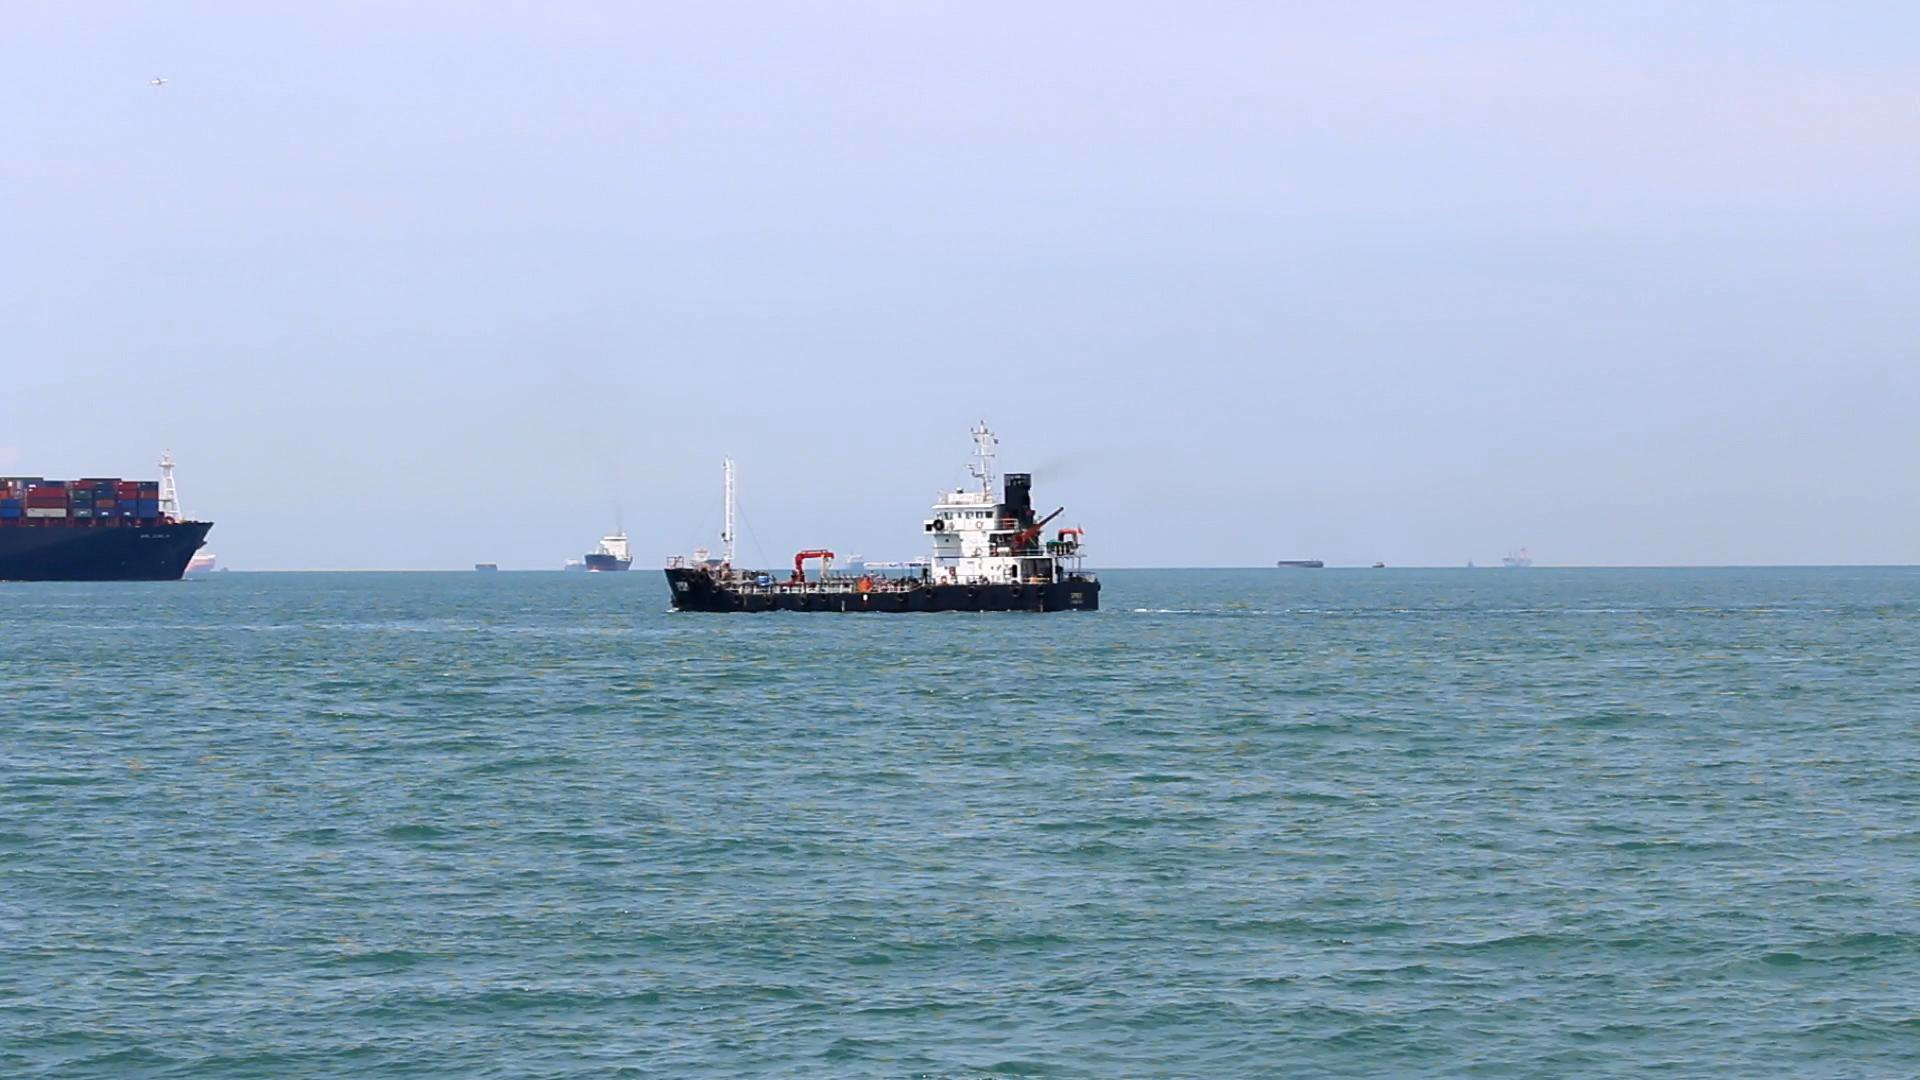Container Ship: (662, 410, 1126, 621), (3, 439, 219, 591), (591, 520, 646, 576), (1274, 546, 1329, 576), (1501, 539, 1545, 572), (556, 553, 591, 582)
